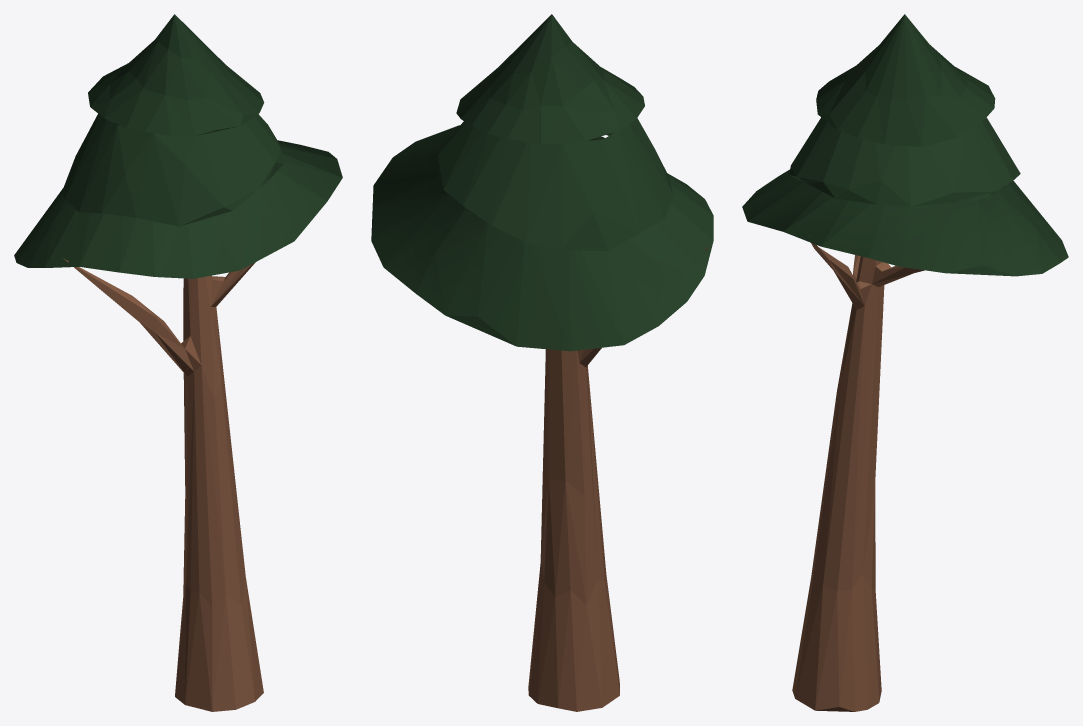
The model's file is SM_tree_fantasy_05.fbx.
3 views of the same model, side by side, from view 1: azimuth 30°, elevation 25°; view 2: azimuth 150°, elevation 25°; view 3: azimuth 270°, elevation 25° (orthographic). The views are drawn at different scales.
Visible parts, largest first — view 1: Object233; view 2: Object233; view 3: Object233.
Part boxes in pixels (bbox=[...]): Object233: bbox=[14, 14, 342, 711]; Object233: bbox=[371, 14, 713, 711]; Object233: bbox=[742, 14, 1068, 711].
Bounding box in the file's own units: 123 × 118 × 269.
